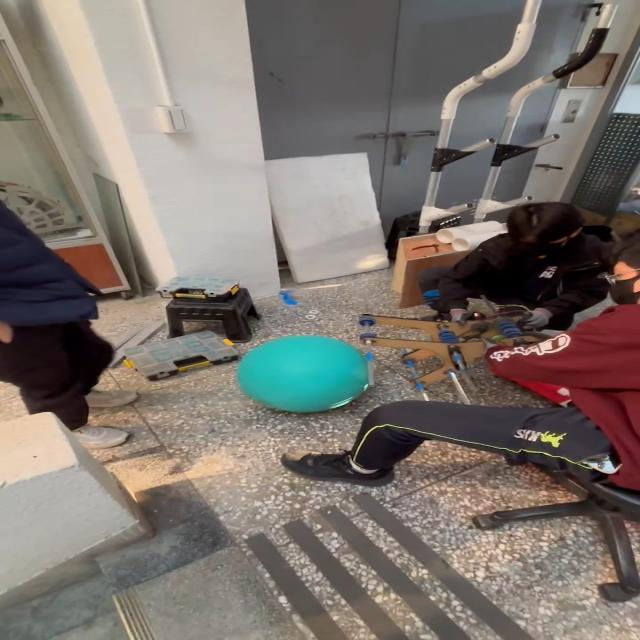ALGAE: (233, 334, 371, 414)
